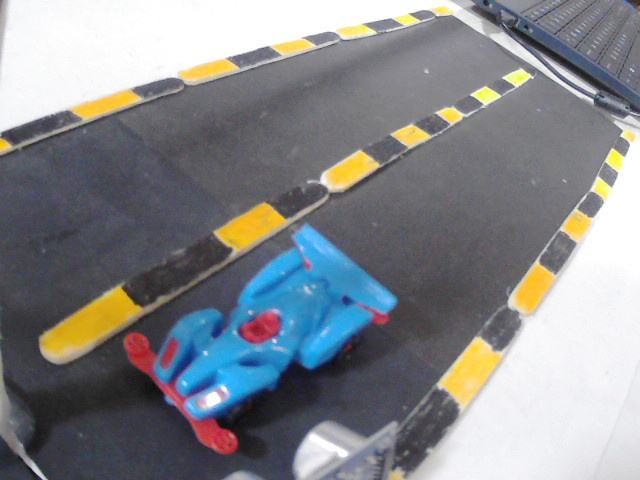car: (131, 226, 402, 456)
uno_breadboard: (214, 417, 402, 480)
